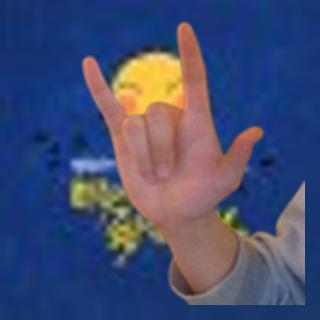ILY: (76, 15, 270, 232)
